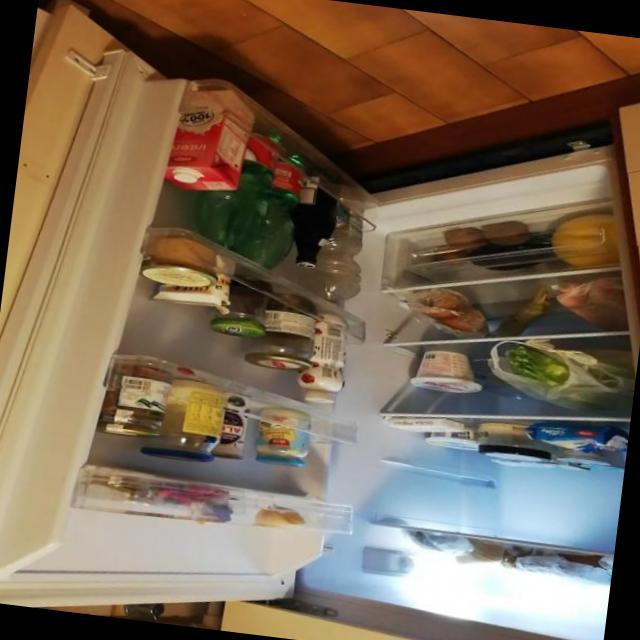Mantequilla: (380, 408, 466, 440)
Manzana: (407, 286, 485, 333)
Queso: (522, 415, 630, 456), (463, 418, 549, 446)
Yogur: (489, 448, 582, 476), (574, 442, 627, 474), (556, 445, 609, 469)
